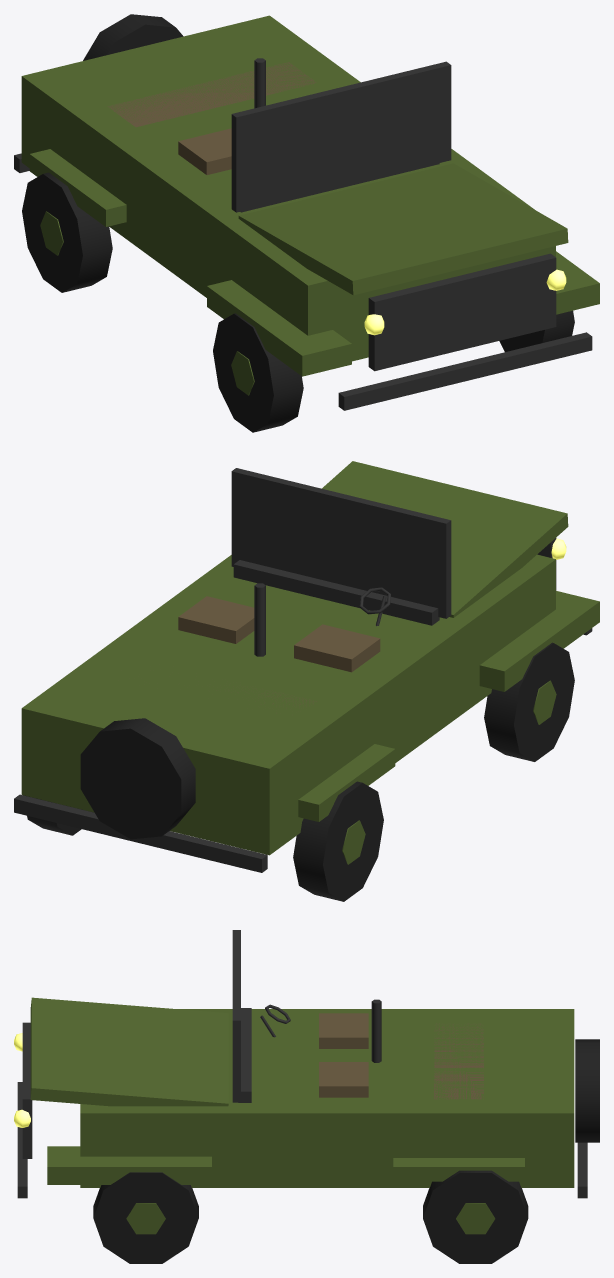
Rendered from m151-jeep.glb.
The picture shows the model from 3 angles, top to bottom: view 1: azimuth 30°, elevation 25°; view 2: azimuth 150°, elevation 25°; view 3: azimuth 270°, elevation 25°; orthographic projection. The views are drawn at different scales.
Visible parts, largest first — view 1: Mesh_Body, Mesh_Hood, Mesh_WindshieldFrame, Mesh_Grille, Mesh_WheelRL, Mesh_WheelFL, Mesh_FenderFL, Mesh_FrontBumper, Mesh_RearBench, Mesh_FenderRL, Mesh_SpareTire, Mesh_DriverSeat (+5 smaller); view 2: Mesh_Body, Mesh_WindshieldFrame, Mesh_Hood, Mesh_SpareTire, Mesh_WheelRL, Mesh_WheelFL, Mesh_FenderFL, Mesh_RearBumper, Mesh_Dashboard, Mesh_FenderRL, Mesh_DriverSeat, Mesh_PassengerSeat (+3 smaller); view 3: Mesh_Body, Mesh_Hood, Mesh_WheelRR, Mesh_WheelFR, Mesh_FenderFR, Mesh_FenderRR, Mesh_SpareTire, Mesh_RearBench, Mesh_DriverSeat, Mesh_PassengerSeat, Mesh_WindshieldFrame, Mesh_Grille (+6 smaller).
Part boxes in pixels (x1,y1,x2,y2): Mesh_Body: [21, 15, 555, 361]; Mesh_Hood: [238, 163, 568, 295]; Mesh_WindshieldFrame: [231, 61, 451, 212]; Mesh_Grille: [368, 253, 556, 371]; Mesh_WheelRL: [22, 172, 112, 292]; Mesh_WheelFL: [213, 313, 303, 432]; Mesh_FenderFL: [207, 280, 351, 376]; Mesh_FrontBumper: [338, 332, 592, 410]; Mesh_RearBench: [107, 62, 316, 127]; Mesh_FenderRL: [29, 149, 126, 226]; Mesh_SpareTire: [83, 14, 183, 60]; Mesh_DriverSeat: [178, 128, 231, 174]; Mesh_Body: [21, 554, 555, 855]; Mesh_WindshieldFrame: [231, 468, 451, 618]; Mesh_Hood: [322, 461, 568, 617]; Mesh_SpareTire: [80, 718, 195, 839]; Mesh_WheelRL: [293, 781, 383, 901]; Mesh_WheelFL: [484, 642, 574, 761]; Mesh_FenderFL: [479, 591, 599, 691]; Mesh_RearBumper: [14, 794, 267, 872]; Mesh_Dashboard: [233, 560, 439, 625]; Mesh_FenderRL: [298, 744, 395, 821]; Mesh_DriverSeat: [294, 624, 380, 672]; Mesh_PassengerSeat: [178, 596, 254, 643]; Mesh_Body: [80, 1009, 574, 1187]; Mesh_Hood: [30, 997, 228, 1106]; Mesh_WheelRR: [423, 1170, 528, 1263]; Mesh_WheelFR: [93, 1172, 198, 1263]; Mesh_FenderFR: [47, 1146, 211, 1184]; Mesh_FenderRR: [393, 1158, 524, 1181]; Mesh_SpareTire: [575, 1039, 599, 1142]; Mesh_RearBench: [434, 1023, 483, 1099]; Mesh_DriverSeat: [319, 1013, 368, 1048]; Mesh_PassengerSeat: [319, 1062, 368, 1097]; Mesh_WindshieldFrame: [232, 930, 240, 1102]; Mesh_Grille: [22, 1022, 32, 1158].
Bounding box in the file's own units: 1.83 × 1.51 × 3.56.
